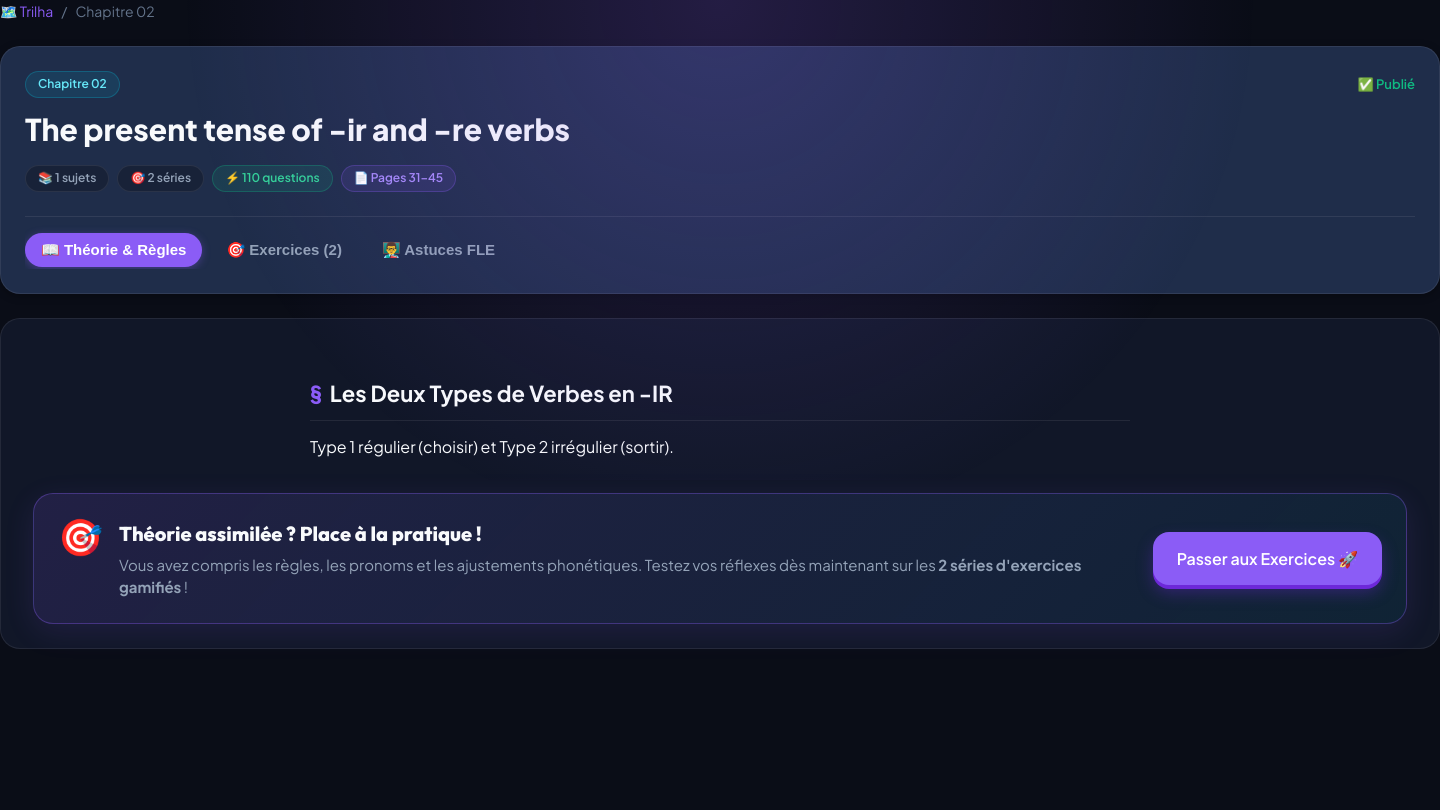
Test: ChapterPage Component › renders Chapter 2 theory and pedagogical tips correctly
expect the heading "The present tense of -ir and -re verbs" is shown: met, box [25, 110, 570, 148]
Note: Check Astuces FLE tab for Chapter 2
Click the tab "👨‍🏫 Astuces FLE" at (438, 250), box [366, 233, 511, 267]
(page scrolled)
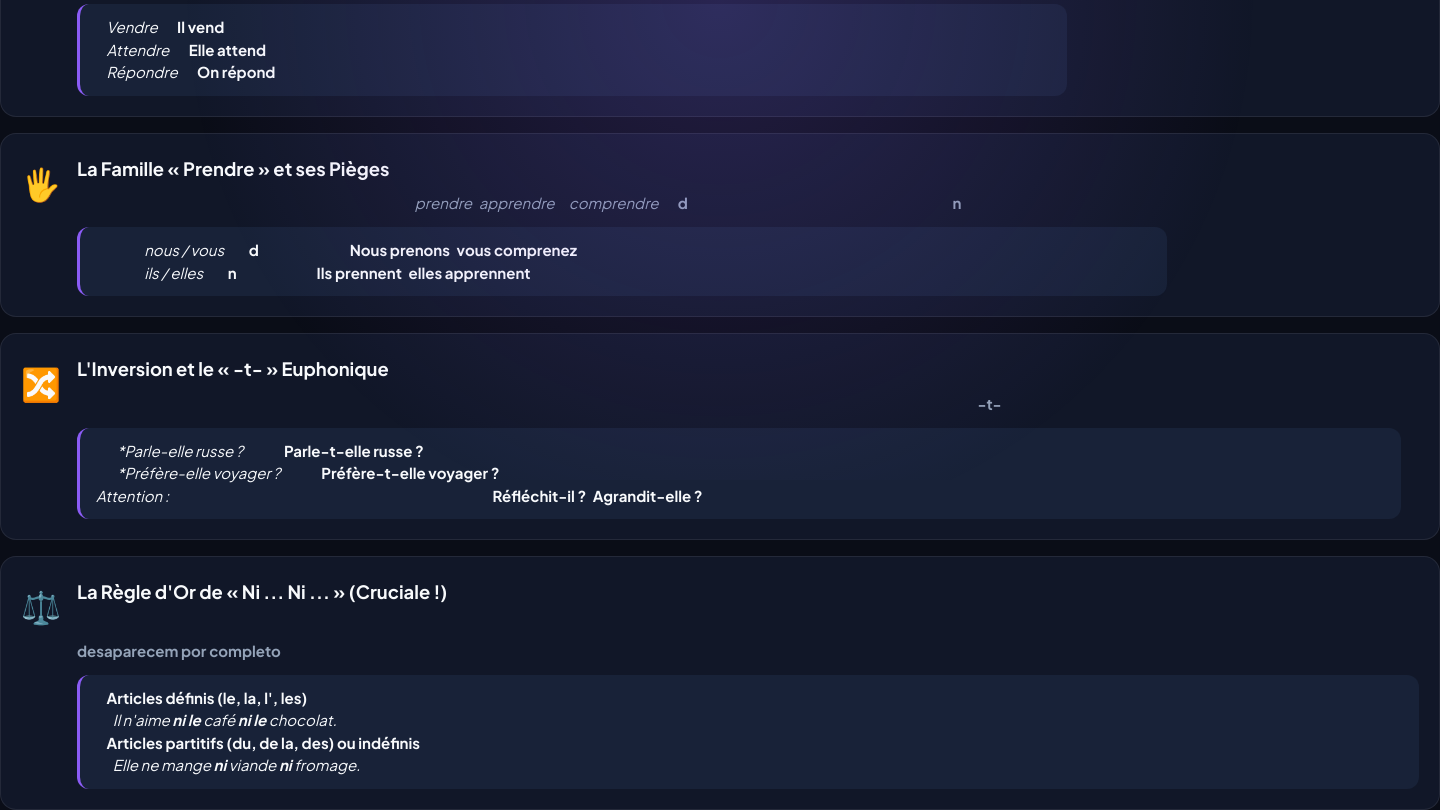
expect the heading "La Règle d'Or de « Ni ... Ni ... » (Cruciale !)" is shown: met, box [77, 580, 447, 603]
